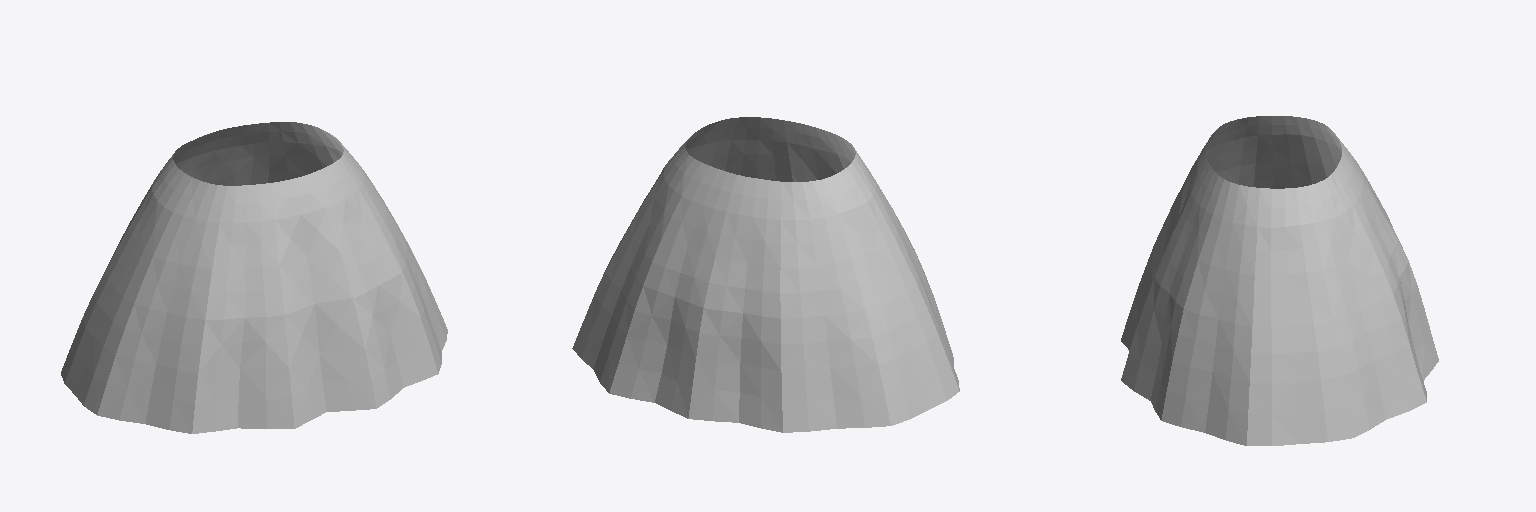
File: 12_shirtshortfullwavy.obj
3 renders of one model, left to right at view 1: azimuth 30°, elevation 25°; view 2: azimuth 150°, elevation 25°; view 3: azimuth 270°, elevation 25°, orthographic.
Visible parts, largest first — view 1: skirtfront, skirtback, skirtbackleft, skirtbackright; view 2: skirtback, skirtbackleft, skirtfront, skirtbackright; view 3: skirtfront, skirtbackright, skirtback, skirtbackleft.
Part boxes in pixels (bbox=[...]): skirtfront: bbox=[74, 133, 447, 433]; skirtback: bbox=[174, 123, 268, 185]; skirtbackleft: bbox=[61, 142, 188, 393]; skirtbackright: bbox=[268, 122, 343, 182]; skirtback: bbox=[609, 162, 782, 432]; skirtbackleft: bbox=[780, 172, 927, 432]; skirtfront: bbox=[685, 117, 959, 409]; skirtbackright: bbox=[572, 141, 700, 392]; skirtfront: bbox=[1121, 116, 1299, 445]; skirtbackright: bbox=[1284, 172, 1426, 443]; skirtback: bbox=[1334, 134, 1438, 400]; skirtbackleft: bbox=[1284, 116, 1341, 187].
Size of the model in its own units: 25.82 by 14.71 by 20.26.